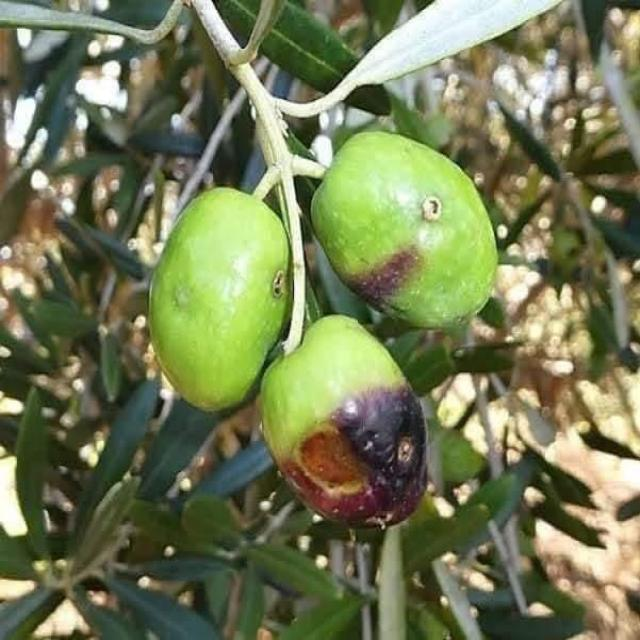Anthracnose: (311, 132, 497, 326), (260, 314, 427, 526), (149, 188, 291, 408)
